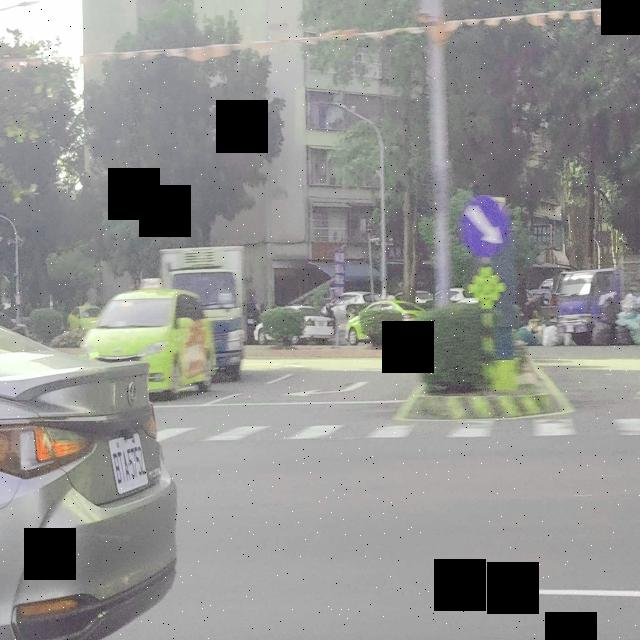zebra crossing: (160, 417, 638, 446)
